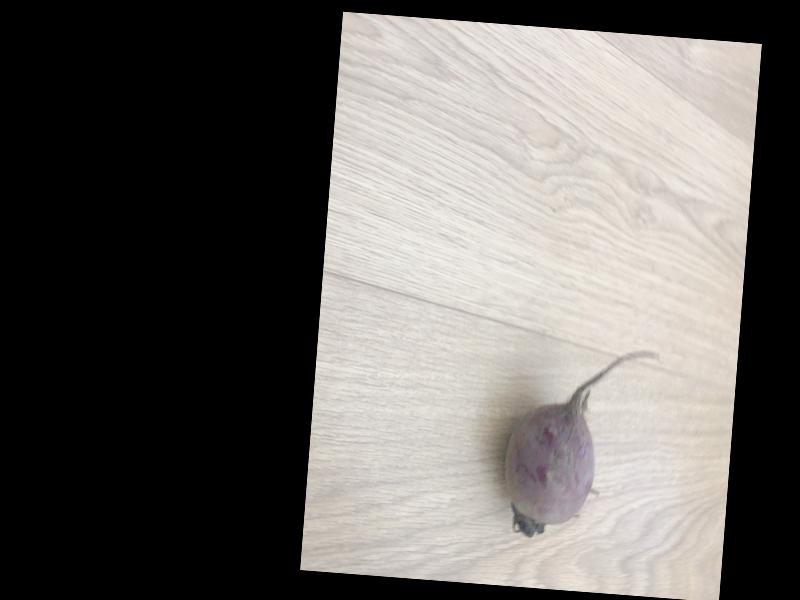Beet: (498, 336, 659, 542)
